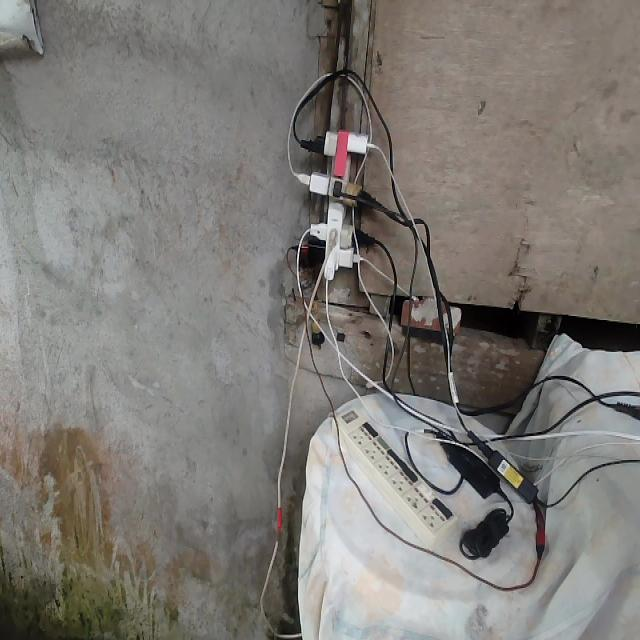-: (291, 127, 380, 284)
